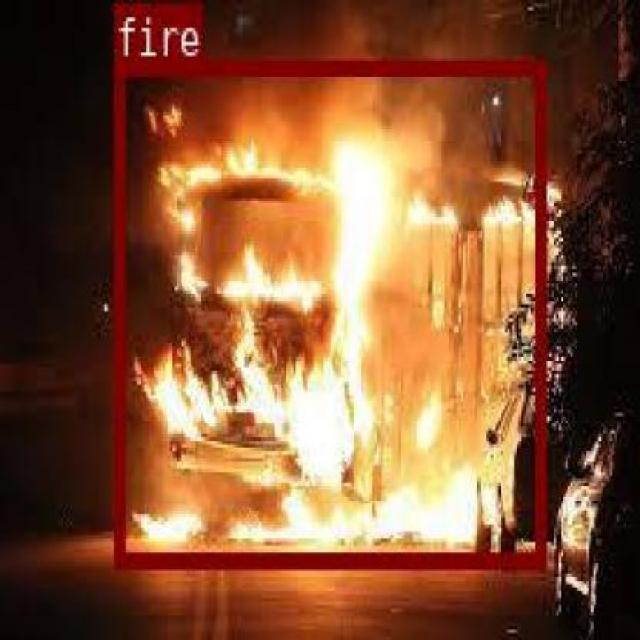Fire: (111, 58, 544, 566)
